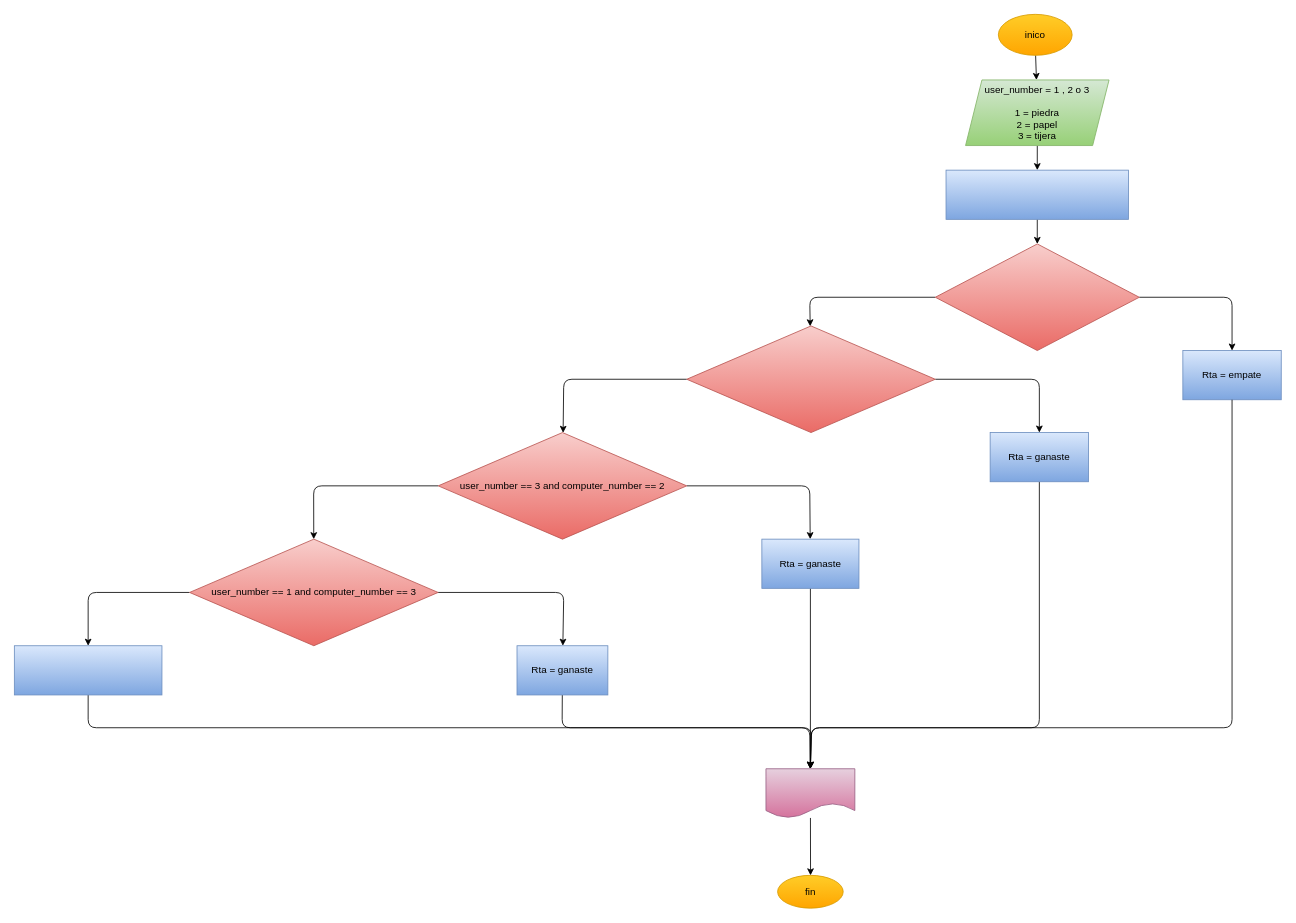
The diagram is 1296 pixels wide and 923 high, and some of its shapes have lost their labels. Here are the shapes that lost their labels. From the top down, the box of each, then its label:
(945, 169, 1128, 219): computer_number = random ( 1 , 2 o 3)
(934, 243, 1139, 351): user_number == computer number
(686, 325, 935, 433): user_number == 2 and computer_number == 1
(14, 645, 162, 695): Rta = la computadora gana
(765, 768, 855, 818): Rta
